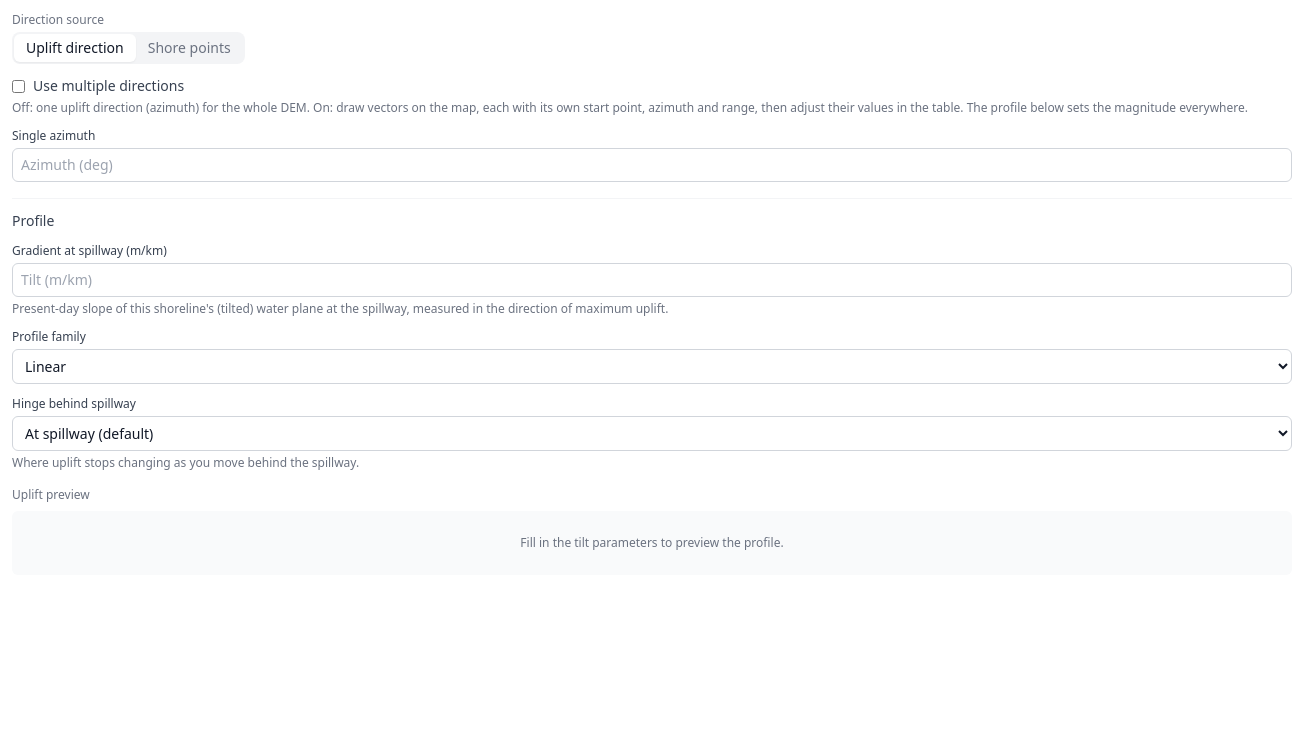
Scenario: multiple directions › checking it replaces the azimuth input and the 1D chart with the table and fit summary, and arms drawing
Click the checkbox labelled "Use multiple directions" at (18, 86), box [12, 80, 25, 92]
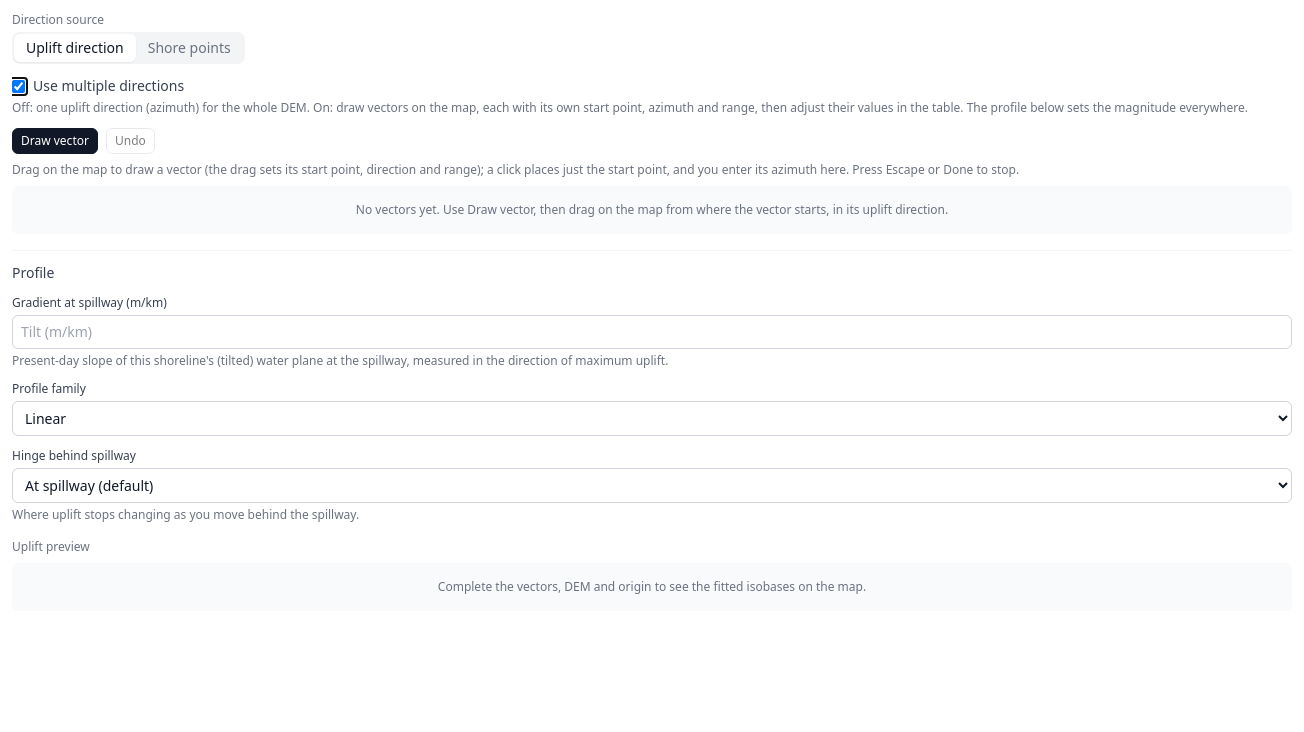
Result: the checkbox labelled "Use multiple directions" is checked at [12, 80, 25, 92]
Result: the text labelled "Single azimuth" is gone
Result: the text "Complete the vectors, DEM and origin" is shown at [438, 578, 866, 595]
